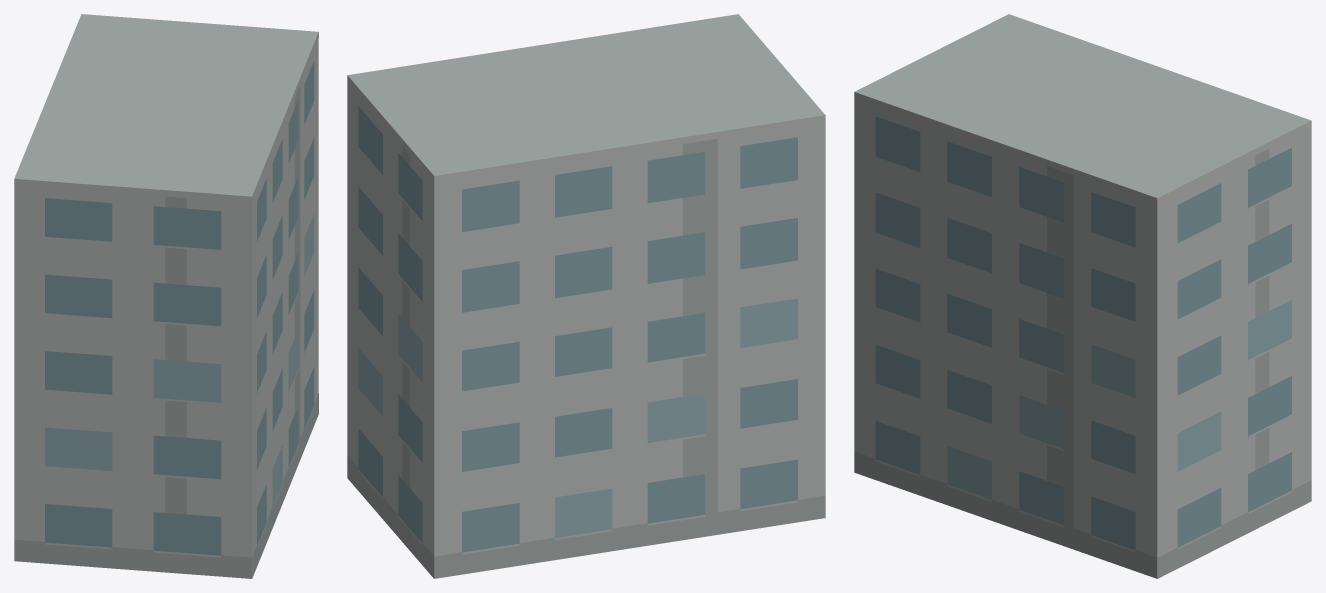
The model's file is survey-upis-32887754.glb.
The picture shows the model from 3 angles, left to right: view 1: azimuth 30°, elevation 25°; view 2: azimuth 150°, elevation 25°; view 3: azimuth 270°, elevation 25°; orthographic projection. The views are drawn at different scales.
Parts seen in each view (by area): view 1: survey-upis-32887754.tmp; view 2: survey-upis-32887754.tmp; view 3: survey-upis-32887754.tmp.
Part boxes in pixels (x1,y1,x2,y2): survey-upis-32887754.tmp: [14, 14, 318, 578]; survey-upis-32887754.tmp: [347, 14, 825, 578]; survey-upis-32887754.tmp: [854, 14, 1311, 578].
Size of the model in its own units: 15.06 by 14.5 by 15.8.
